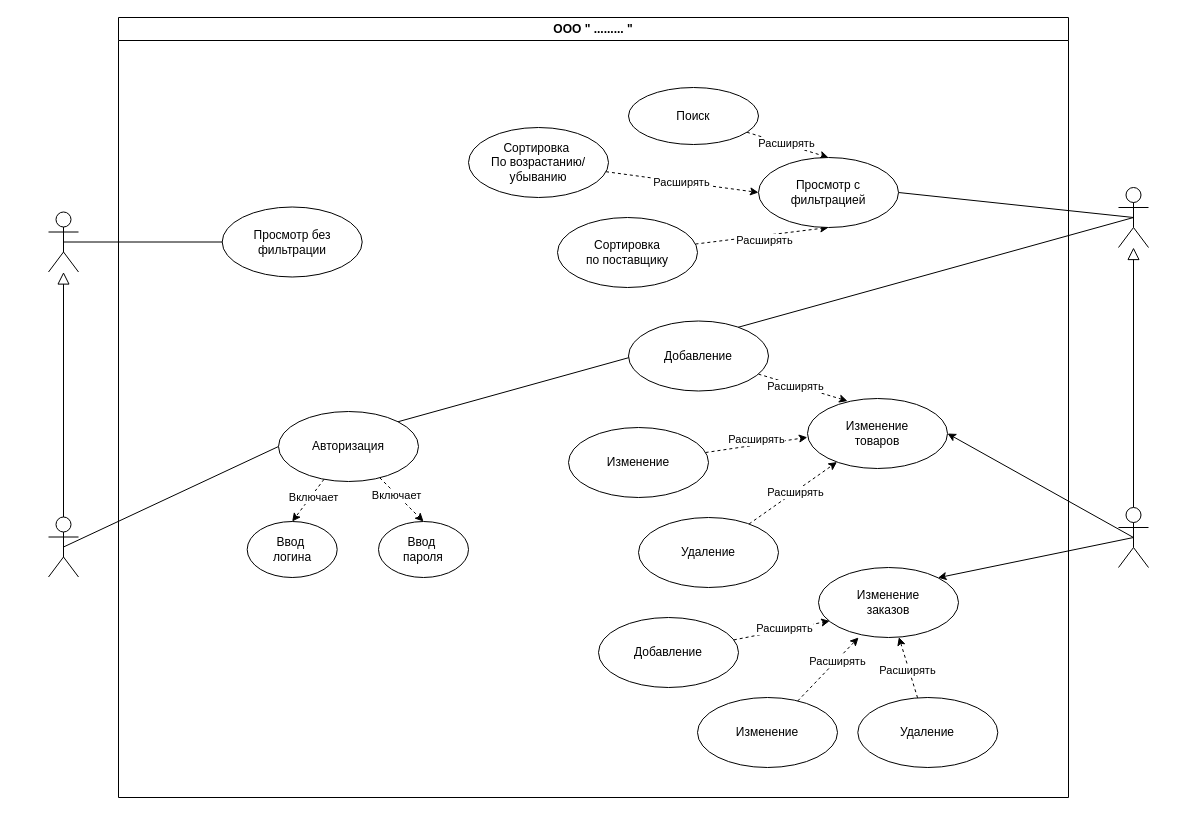
Some shapes in this 1194 by 815 pixel diagram are drawn without their labels. The centre of each missing label's shape, as x and y in pixels:
Авторизованный: (63,546)
Администратор: (1133,537)
Гость: (63,241)
Менеджер: (1133,217)
